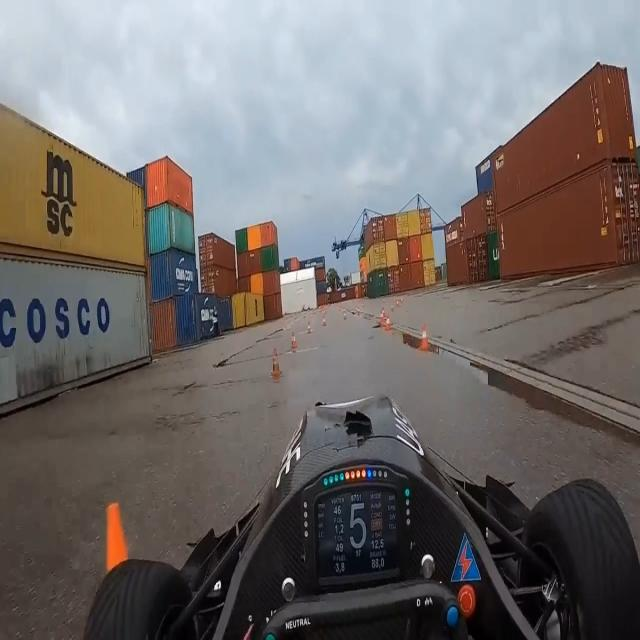Orange cone: (94, 485, 137, 605), (265, 346, 286, 396), (373, 300, 395, 338), (416, 320, 434, 356), (284, 325, 298, 361)
